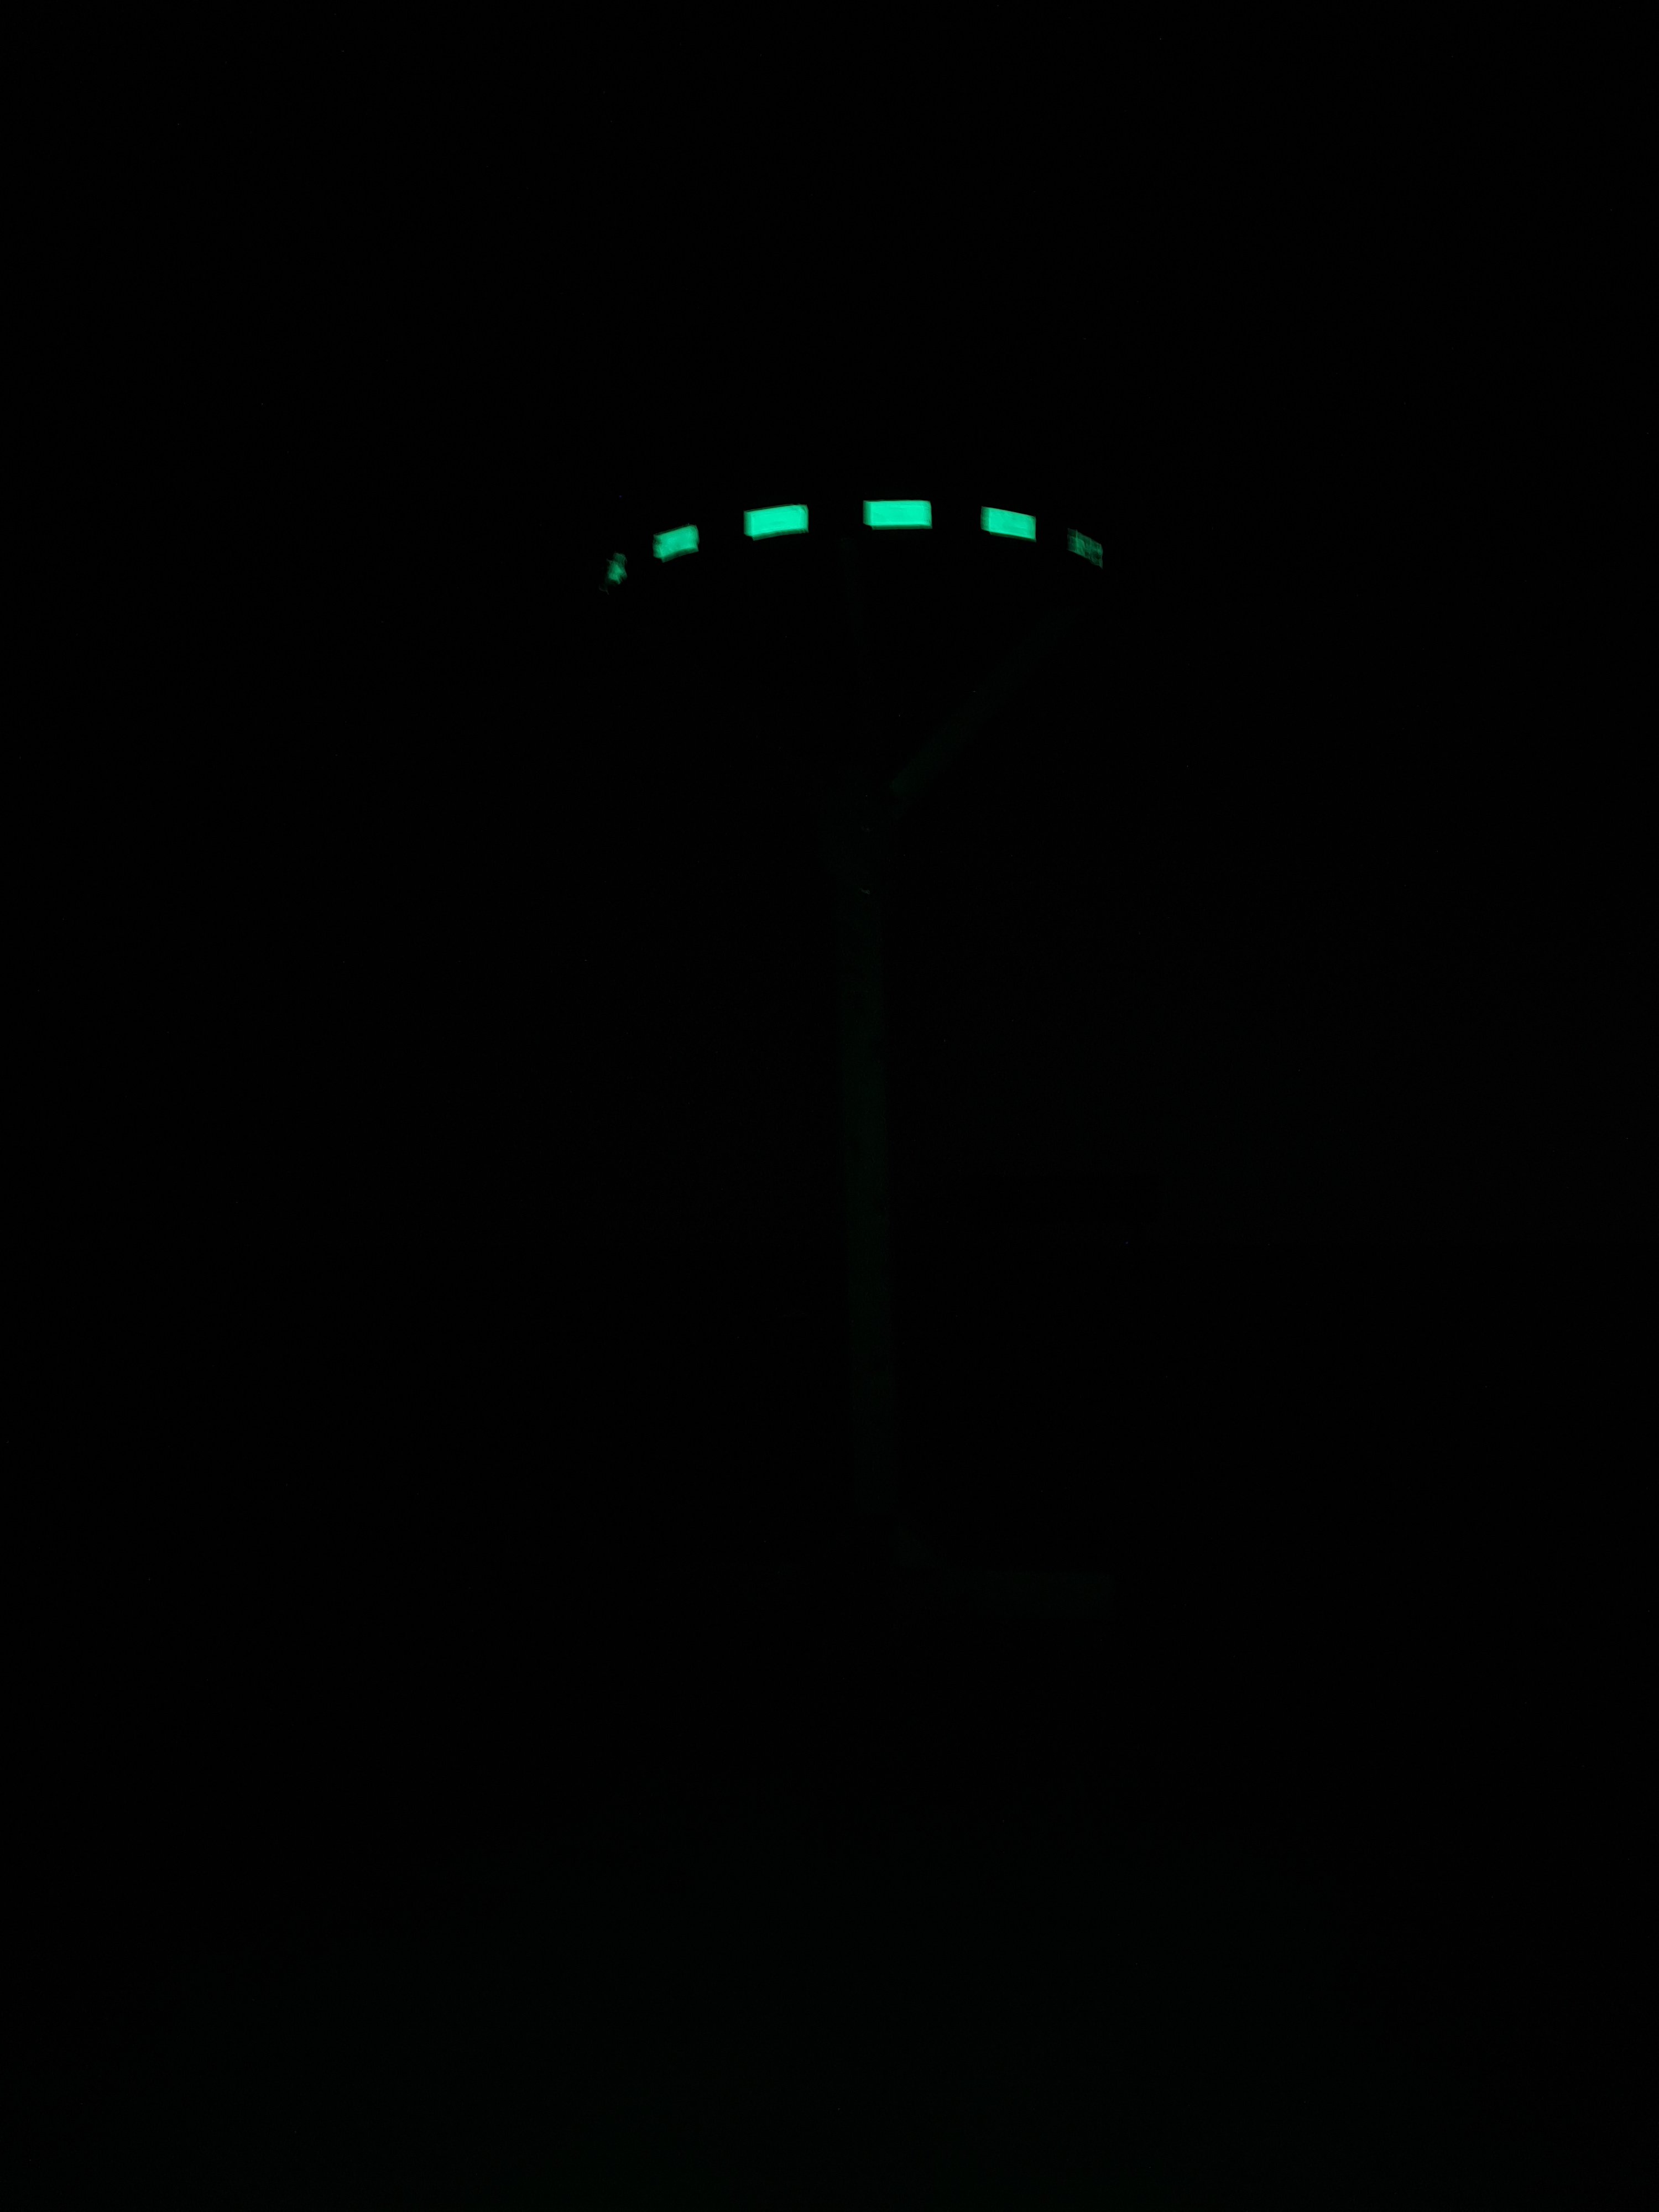hoop: (594, 495, 1115, 594)
